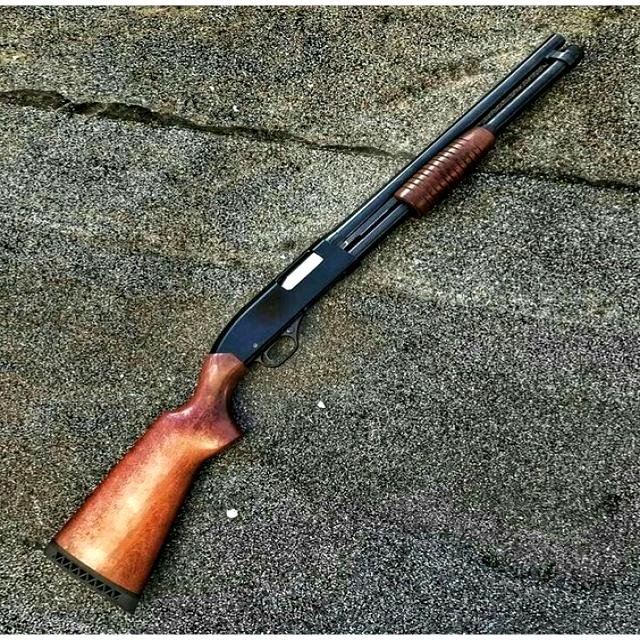shotgun: (45, 27, 587, 619)
